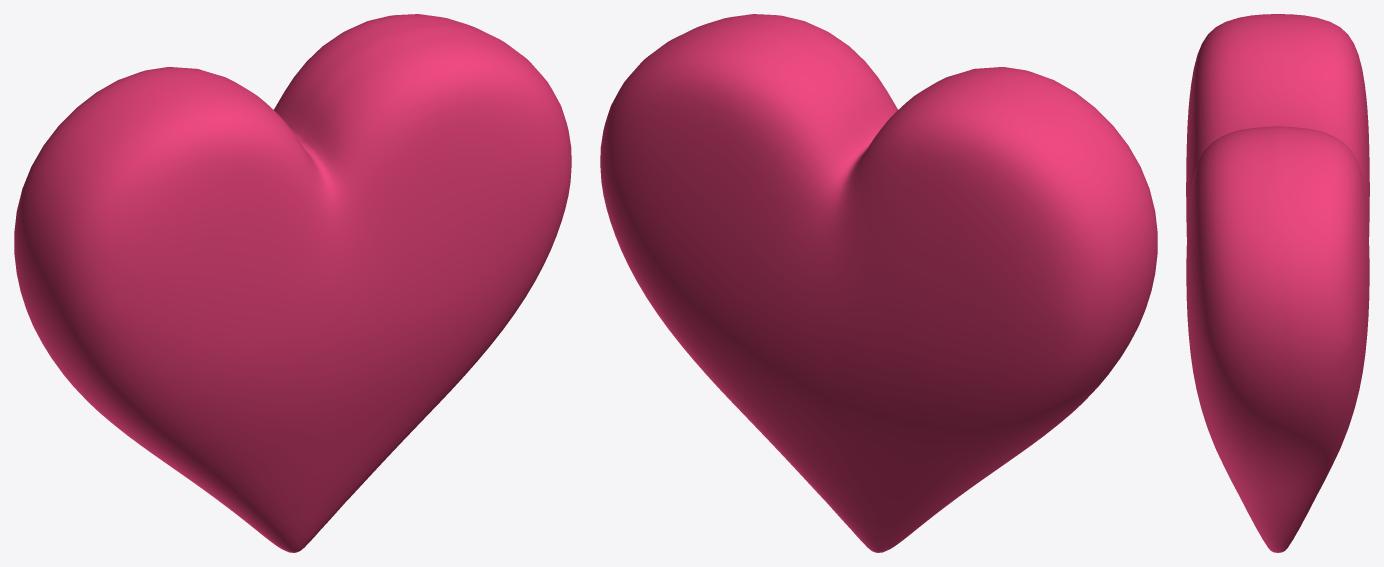
The model's file is sparkling_heart.glb.
3 views of the same model, side by side, from view 1: azimuth 30°, elevation 25°; view 2: azimuth 150°, elevation 25°; view 3: azimuth 270°, elevation 25° (orthographic). The views are drawn at different scales.
Parts seen in each view (by area): view 1: hfdjkslfjkds.004; view 2: hfdjkslfjkds.004; view 3: hfdjkslfjkds.004.
Part boxes in pixels (x1,y1,x2,y2): hfdjkslfjkds.004: (14, 14, 571, 552); hfdjkslfjkds.004: (600, 14, 1157, 552); hfdjkslfjkds.004: (1186, 14, 1369, 552).
Size of the model in its own units: 1.86 by 1.68 by 0.5956.
Materials: 1 (1 with a texture image).
